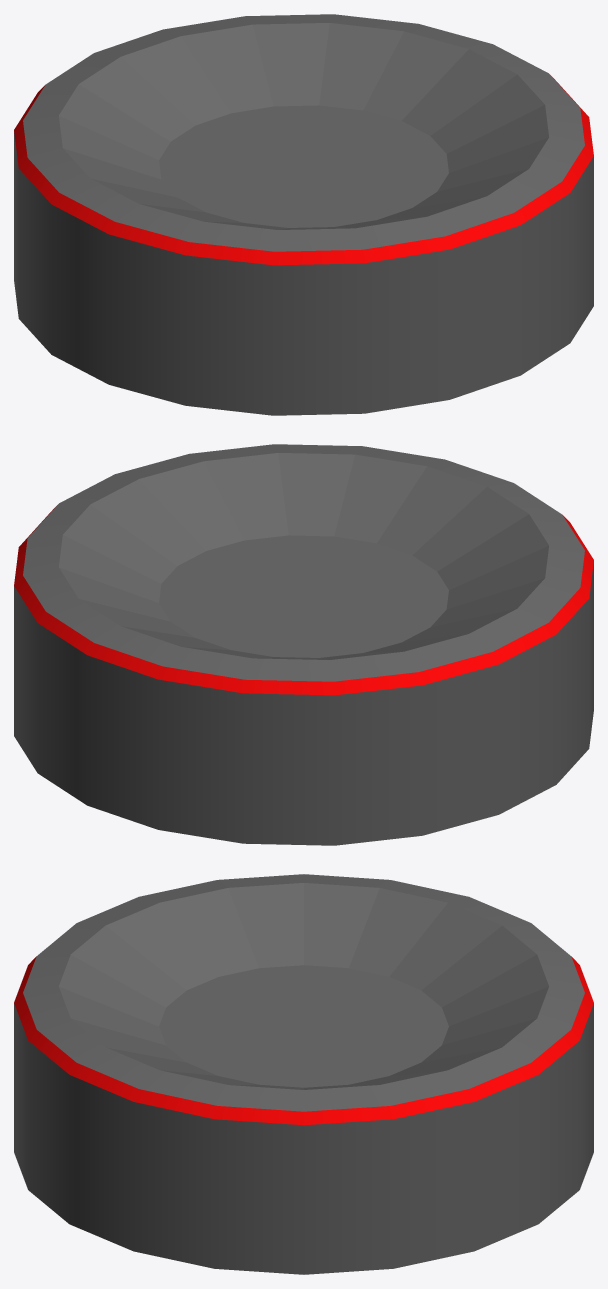
The model's file is fire pit (2).fbx.
3 views of the same model, one above another, from view 1: azimuth 30°, elevation 25°; view 2: azimuth 150°, elevation 25°; view 3: azimuth 270°, elevation 25° (orthographic).
Visible parts, largest first — view 1: pCylinder1; view 2: pCylinder1; view 3: pCylinder1.
Boxes of the visible parts, <box> form: pCylinder1: <box>14,14,593,415</box>; pCylinder1: <box>14,444,593,845</box>; pCylinder1: <box>14,874,593,1274</box>.
Size of the model in its own units: 7.98 by 2.52 by 7.98.
